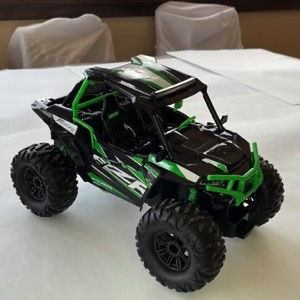polaris: (10, 51, 287, 297)
